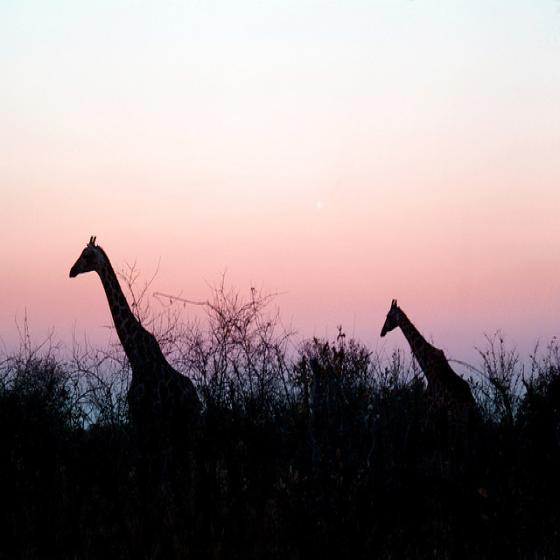giraffe: (65, 234, 205, 425), (378, 298, 486, 439)
